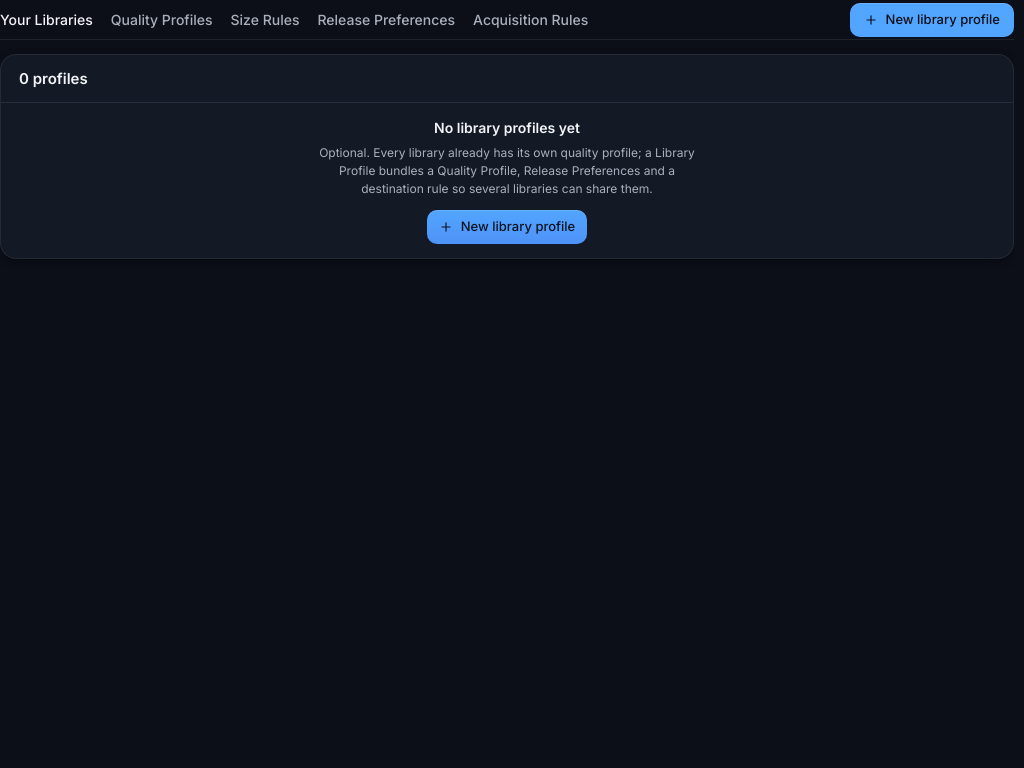
Test: a new library profile › Create posts the profile with its choices and attaches it to each library switched on
Click the button "New library profile" in the row of "Acquisition Rules": (932, 20) [850,2,1014,36]
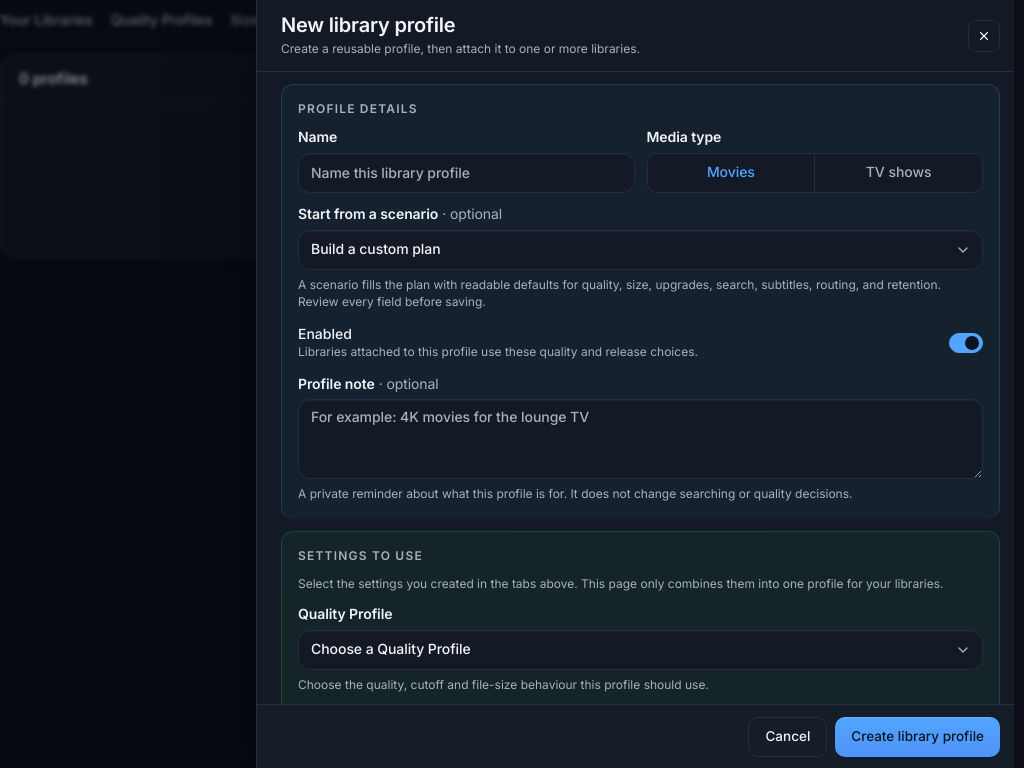
In the field with placeholder "Name this library profile": (466, 173) [298,153,634,193], type "Kids"
In the text box with placeholder "For example: 4K movies for the lounge TV": (640, 440) [298,400,983,480], type "For the children"
Select "HD" in the dropdown "Choose a Quality Profile": (640, 650) [298,630,983,670]
(page scrolled)
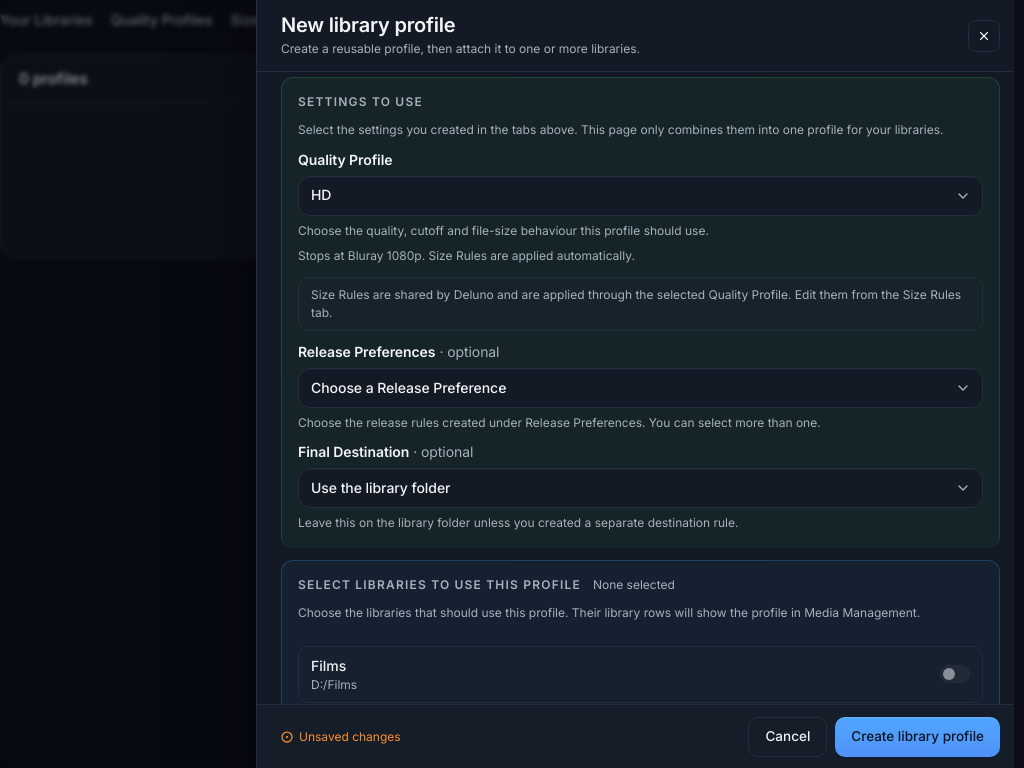
Select "No CAM" in the dropdown "Choose a Release Preference": (640, 388) [298,368,983,408]
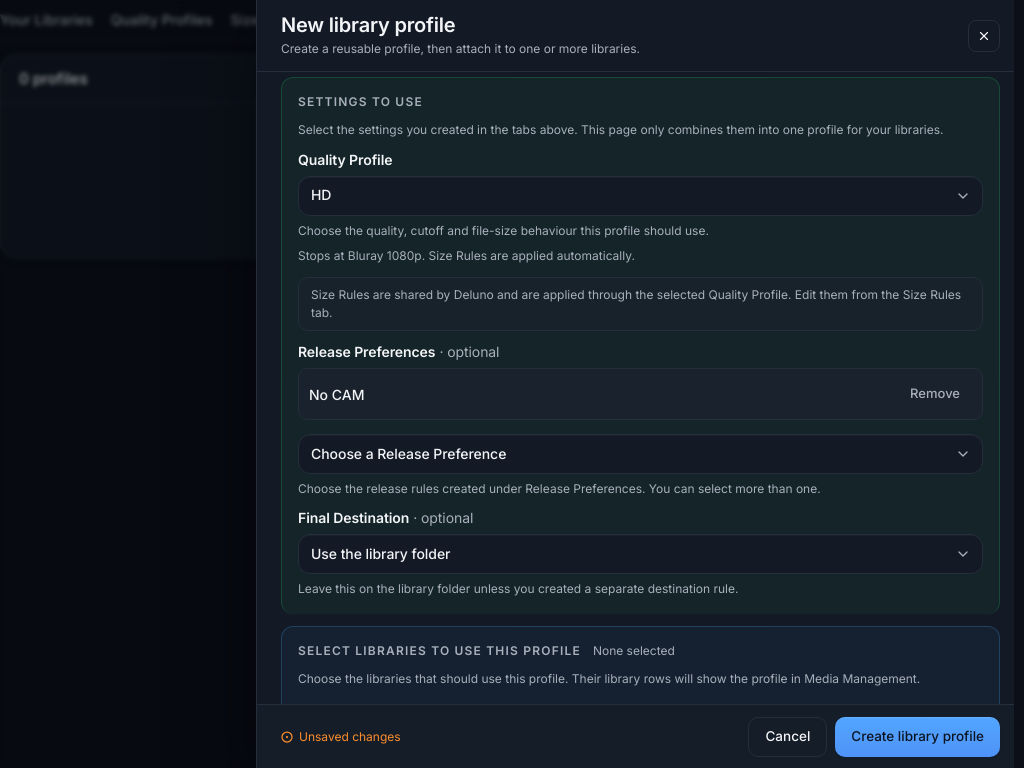
Select "Horror drive" in the dropdown "Use the library folder": (640, 554) [298,534,983,574]
(page scrolled)
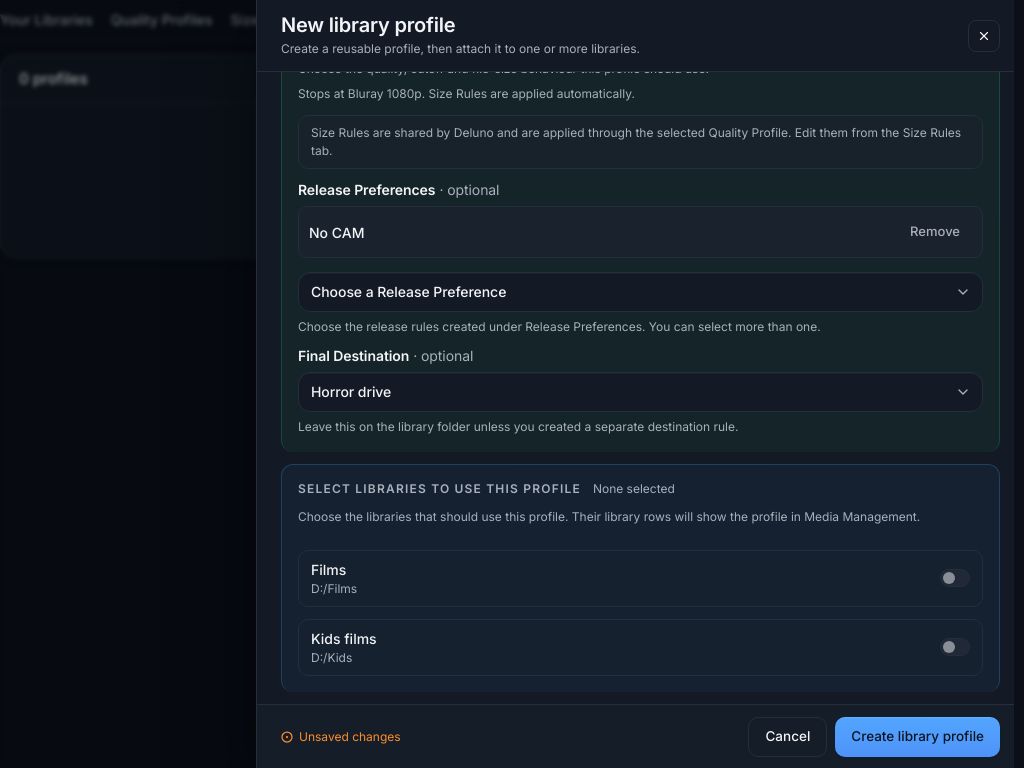
Click the switch in the row of "Kids films": (955, 647) [940,638,970,656]
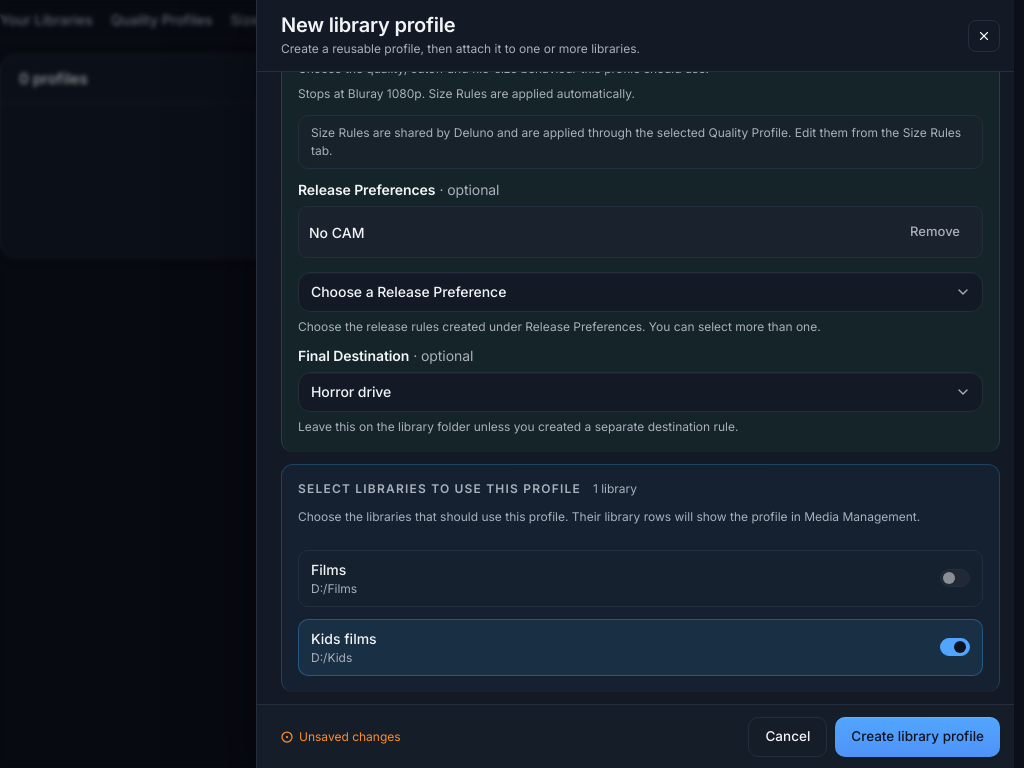
Result: the text "1 library" is shown at [593,481,637,496]
Click the button "Create library profile": (918, 736) [835,716,1000,756]
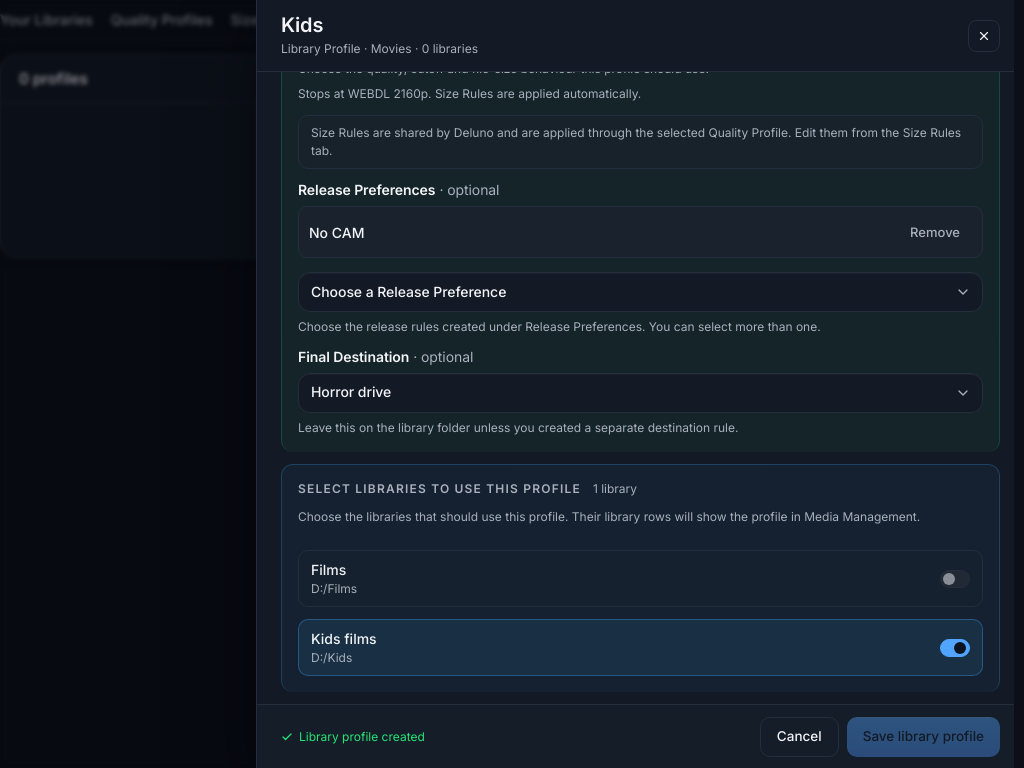
Result: the text "Library profile created" is shown at [299,728,425,746]
